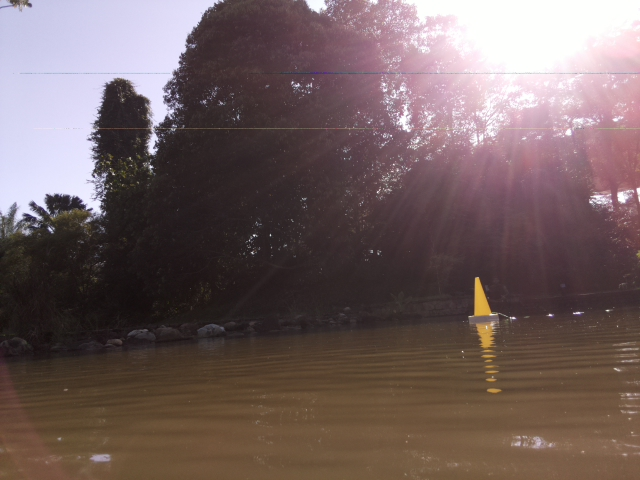checkpoint: (468, 277, 499, 323)
